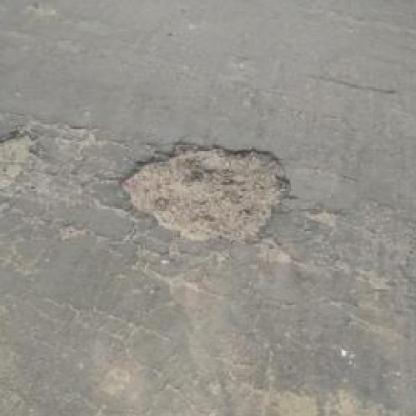pothole: (116, 139, 291, 243), (0, 125, 41, 187)
